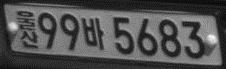3: (181, 19, 205, 59)
5: (112, 15, 135, 55)
6: (135, 17, 158, 56)
8: (157, 17, 181, 58)
9: (57, 12, 80, 51), (36, 11, 58, 50)
바: (80, 15, 105, 51)
울산_V: (15, 9, 39, 50)
